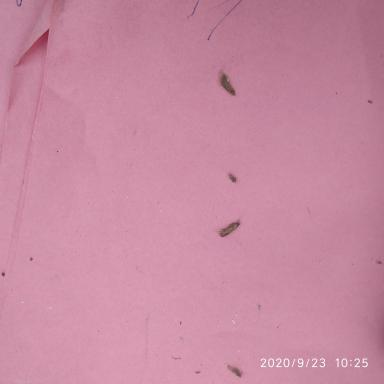pbw: (213, 213, 244, 237), (218, 69, 236, 96), (226, 364, 243, 380)
